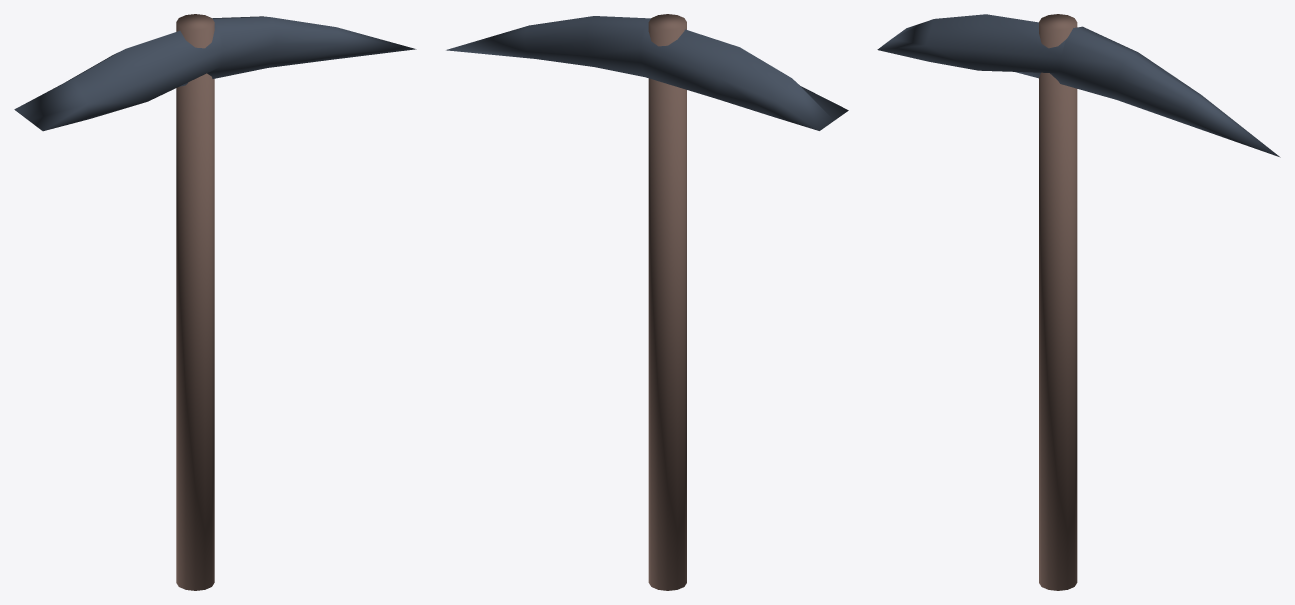
File: talacha.fbx
3 renders of one model, left to right at view 1: azimuth 30°, elevation 25°; view 2: azimuth 150°, elevation 25°; view 3: azimuth 330°, elevation 25°, orthographic.
Visible parts, largest first — view 1: Trayectoria_NURBS; view 2: Trayectoria_NURBS; view 3: Trayectoria_NURBS.
Boxes of the visible parts, x1,y1,x2,y2 form: Trayectoria_NURBS: [14, 14, 416, 590]; Trayectoria_NURBS: [446, 14, 848, 590]; Trayectoria_NURBS: [877, 14, 1280, 590].
Size of the model in its own units: 725 by 998 by 105.
